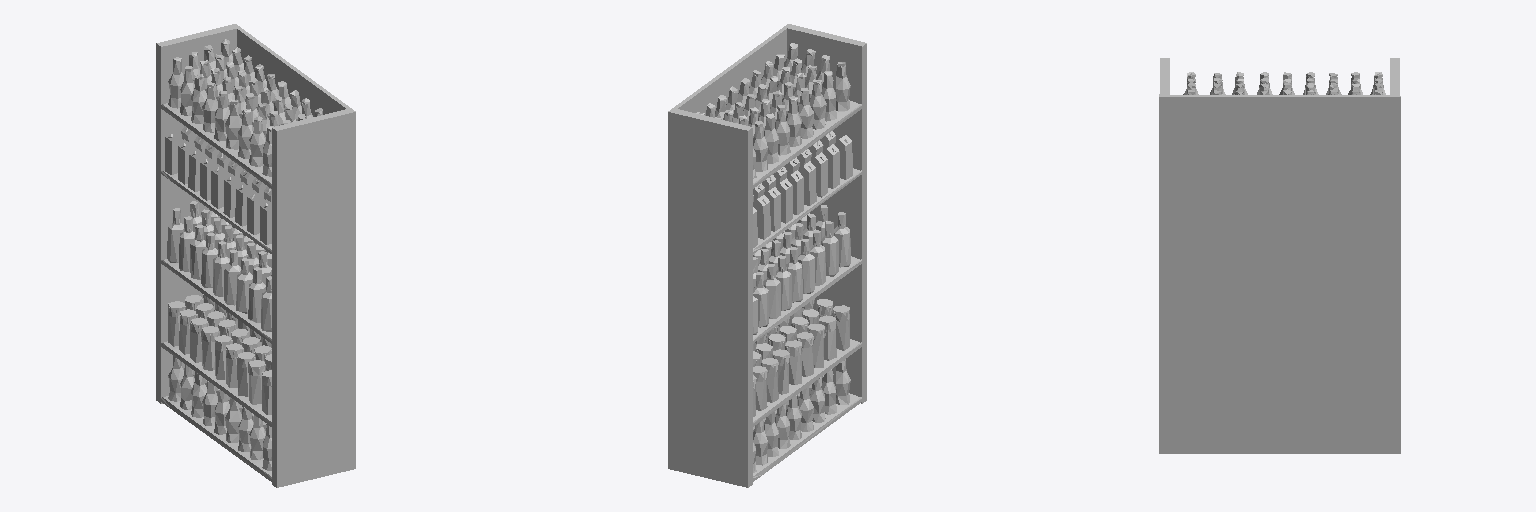
Rendered from bottle shelf.obj.
3 views of the same model, side by side, from view 1: azimuth 30°, elevation 25°; view 2: azimuth 150°, elevation 25°; view 3: azimuth 270°, elevation 25° (orthographic).
Visible parts, largest first — view 1: glass1.004; view 2: glass1.004; view 3: glass1.004.
Boxes of the visible parts, x1,y1,x2,y2 form: glass1.004: [156, 24, 355, 487]; glass1.004: [668, 24, 866, 487]; glass1.004: [1159, 58, 1400, 453].
Bounding box in the file's own units: 2.09 × 8.96 × 5.48.